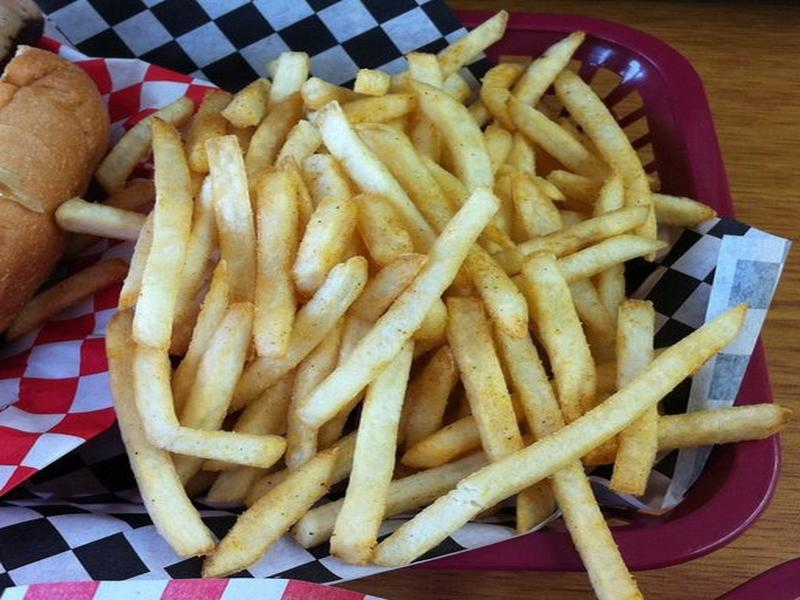french_fries: (148, 38, 751, 578)
